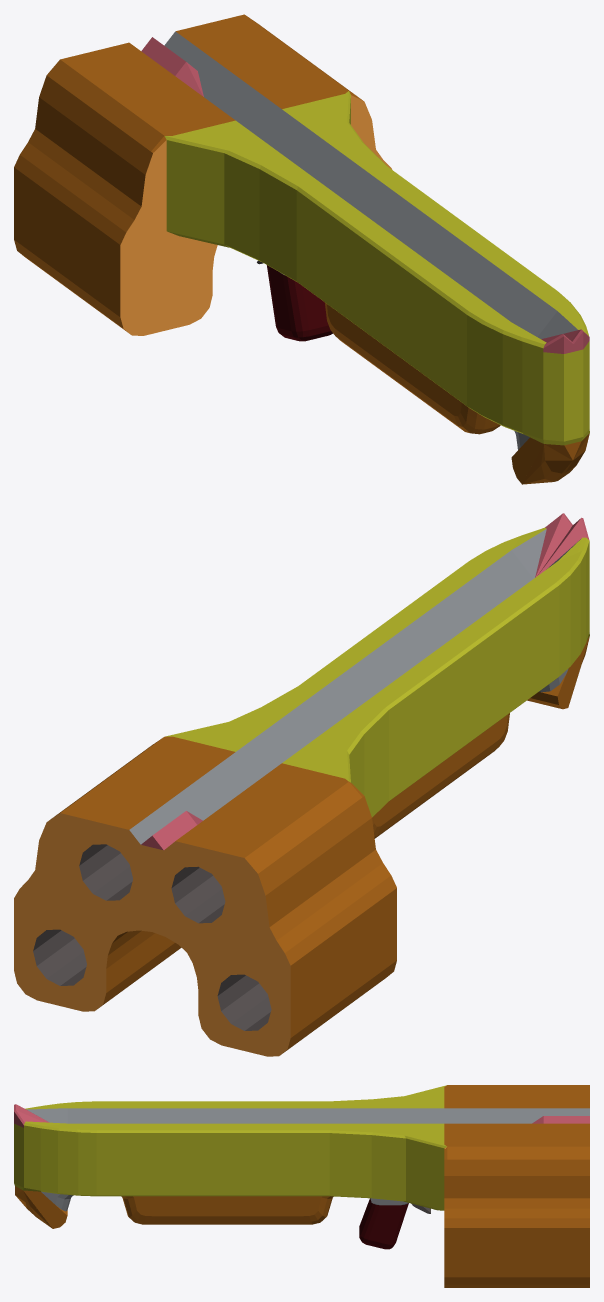
File: Fireworks Launcher_3DModel_3.fbx
3 views of the same model, one above another, from view 1: azimuth 30°, elevation 25°; view 2: azimuth 150°, elevation 25°; view 3: azimuth 270°, elevation 25° (orthographic). The views are drawn at different scales.
Visible parts, largest first — view 1: Launcher; view 2: Launcher; view 3: Launcher.
Boxes of the visible parts, left/top/right/bottom form: Launcher: left=14, top=14, right=589, bottom=484; Launcher: left=14, top=513, right=589, bottom=1056; Launcher: left=14, top=1085, right=589, bottom=1287.
Bounding box in the file's own units: 0.75 × 0.5329 × 1.98.
